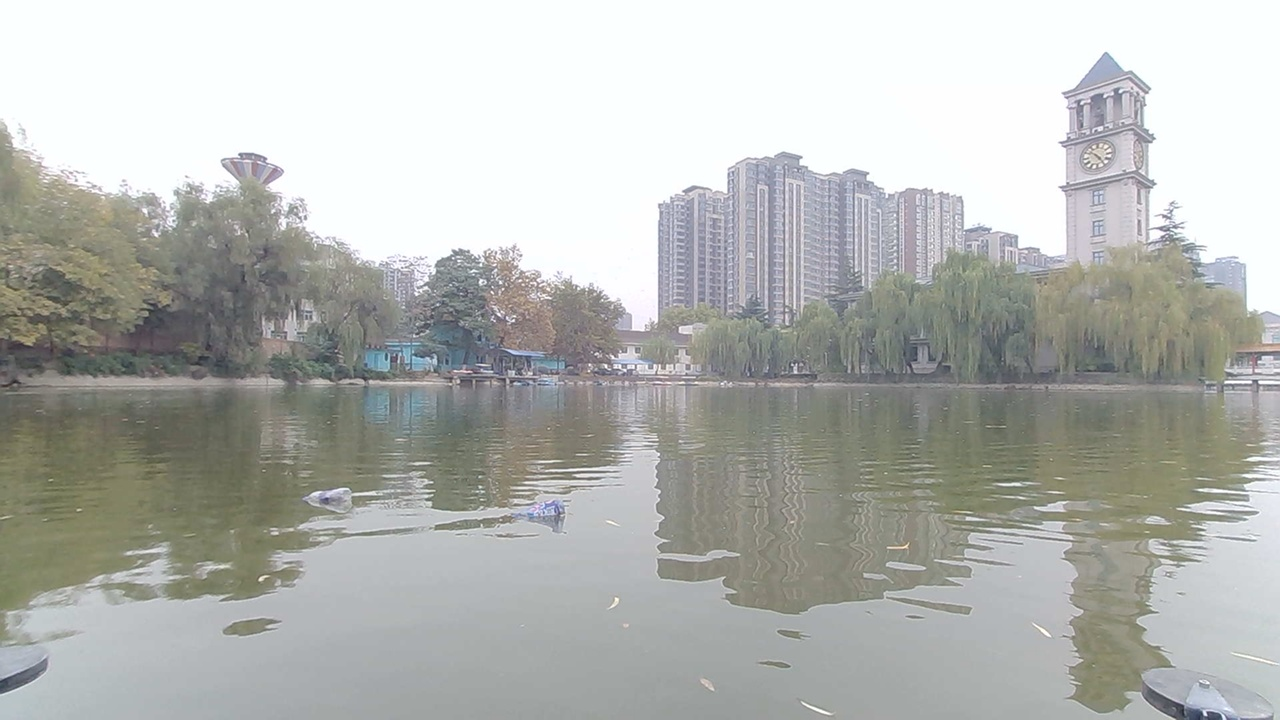bottle: (316, 488, 355, 514), (529, 506, 562, 523)
